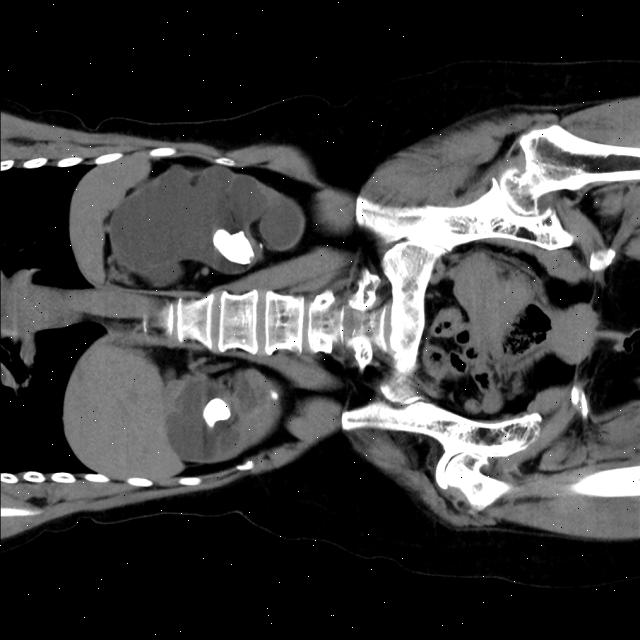kidneystone: (212, 229, 254, 262), (202, 397, 231, 427)
